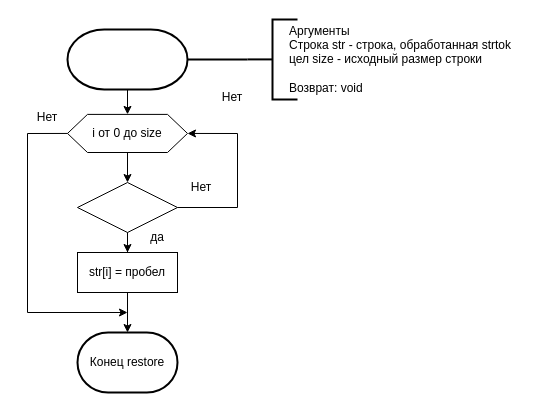
The diagram is 554 pixels wide and 411 high, and some of its shapes have lost their labels. The shapes that lost their labels are listed below. From the top down, each one's box as (x1, y1, x2, y2) in pixels, then its label:
(66, 28, 188, 90): Начало restore
(76, 182, 178, 232): str[i] == '\0'
